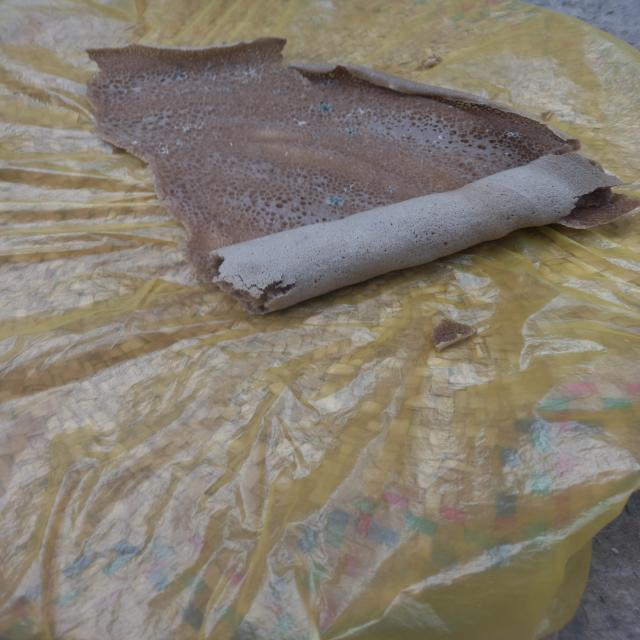injera_mold: (238, 66, 258, 82), (169, 68, 189, 81), (328, 195, 344, 209), (156, 142, 171, 156), (317, 100, 333, 112), (504, 129, 520, 139), (322, 78, 341, 86), (354, 107, 366, 117), (177, 125, 194, 132), (222, 64, 233, 74), (343, 184, 354, 193), (294, 119, 308, 126), (216, 86, 230, 93), (385, 185, 394, 195), (197, 121, 205, 132), (312, 184, 321, 193), (205, 61, 214, 70), (346, 127, 354, 137), (175, 137, 182, 148), (202, 72, 214, 78), (272, 88, 282, 95), (288, 63, 296, 71), (388, 83, 396, 91), (158, 77, 167, 84), (130, 140, 140, 146), (109, 85, 119, 91), (435, 134, 445, 140), (282, 150, 290, 157), (313, 134, 320, 141), (207, 106, 214, 113), (300, 92, 306, 100), (503, 151, 510, 157), (100, 57, 107, 63), (466, 137, 473, 143), (258, 237, 270, 240), (296, 165, 301, 172), (92, 76, 98, 80), (486, 128, 491, 132), (229, 142, 233, 147), (449, 105, 454, 108), (403, 134, 405, 137)
